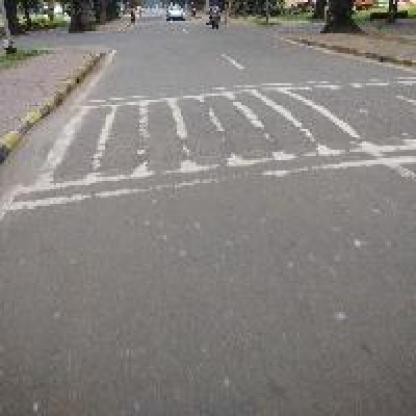Speed Bump: (2, 73, 414, 218)
